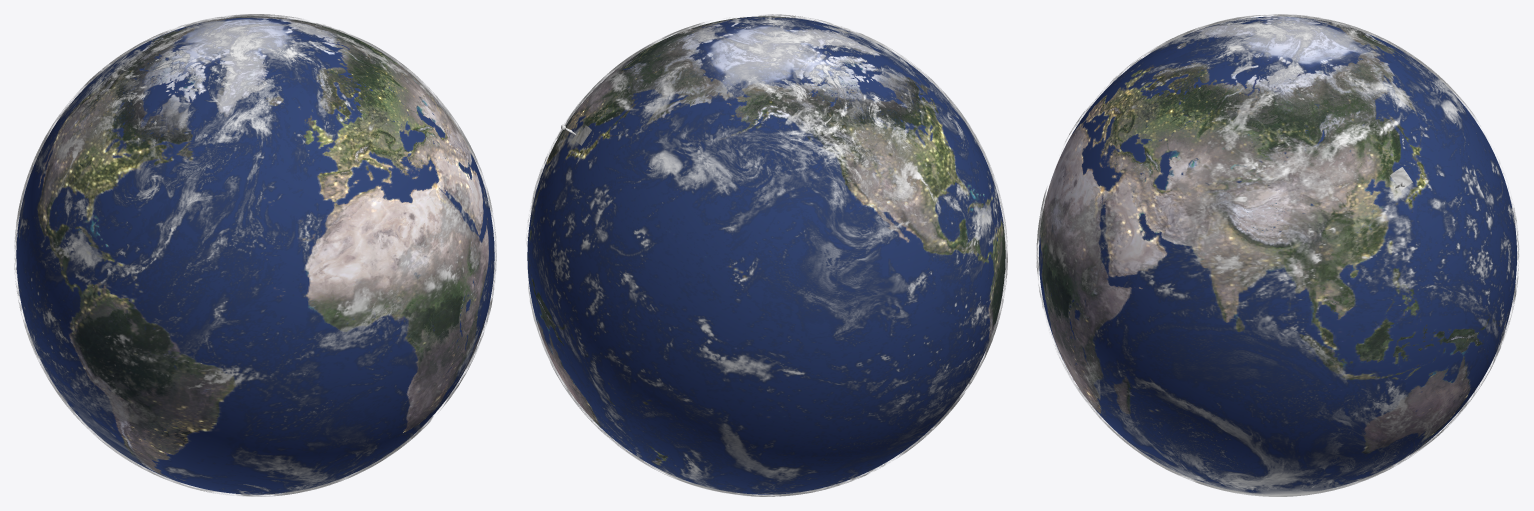
Rendered from Earth.gltf.
The picture shows the model from 3 angles, left to right: view 1: azimuth 30°, elevation 25°; view 2: azimuth 150°, elevation 25°; view 3: azimuth 270°, elevation 25°; orthographic projection.
Visible parts, largest first — view 1: Earth, EarthClouds; view 2: Earth, EarthClouds; view 3: Earth, EarthClouds.
Part boxes in pixels (x1,y1,x2,y2): Earth: [16, 16, 494, 494]; EarthClouds: [14, 14, 496, 496]; Earth: [527, 16, 1005, 494]; EarthClouds: [527, 14, 1007, 496]; Earth: [1039, 16, 1516, 493]; EarthClouds: [1036, 14, 1518, 496].
Size of the model in its own units: 10.1 by 10.1 by 10.1.
